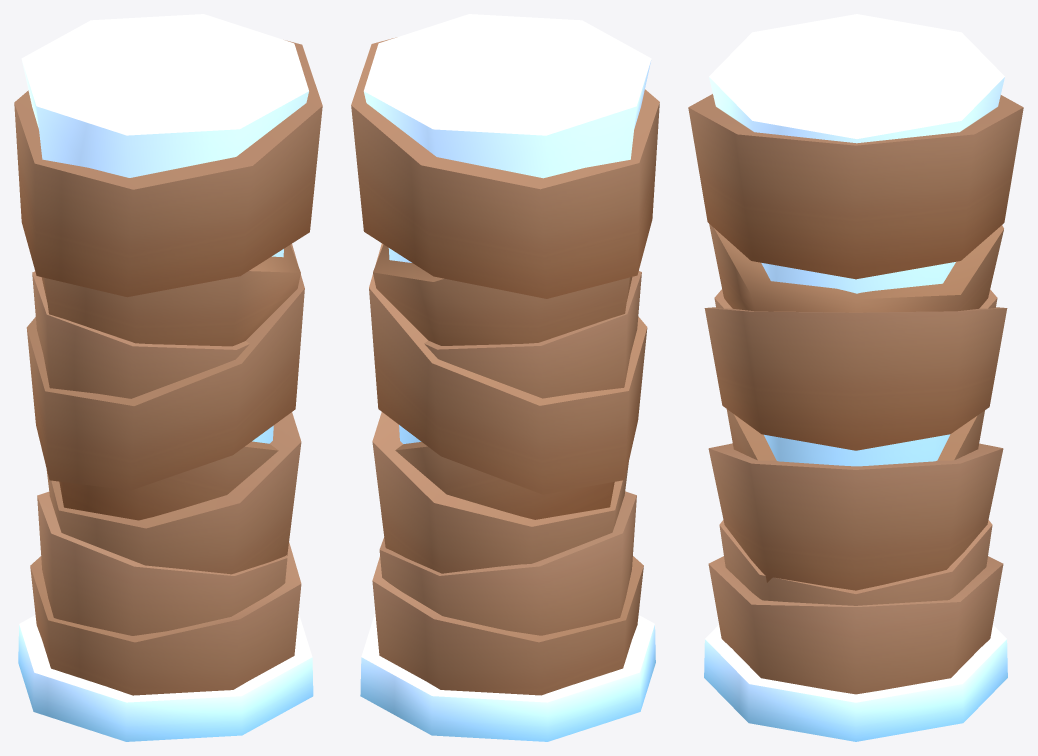
Rendered from steel_grip_042.glb.
3 renders of one model, left to right at view 1: azimuth 30°, elevation 25°; view 2: azimuth 150°, elevation 25°; view 3: azimuth 270°, elevation 25°, orthographic.
Parts seen in each view (by area): view 1: steel_grip_042; view 2: steel_grip_042; view 3: steel_grip_042.
Part boxes in pixels (x1,y1,x2,y2): steel_grip_042: (14,14,322,741); steel_grip_042: (351,14,659,741); steel_grip_042: (688,14,1023,741).
Bounding box in the file's own units: 1.52 × 3.26 × 1.65.
1 material, 1 textured.
